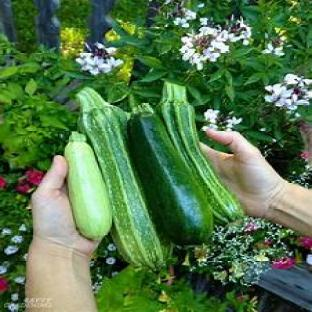Zucchini: (78, 89, 171, 268), (159, 83, 242, 223), (129, 105, 212, 245), (65, 133, 111, 239)
